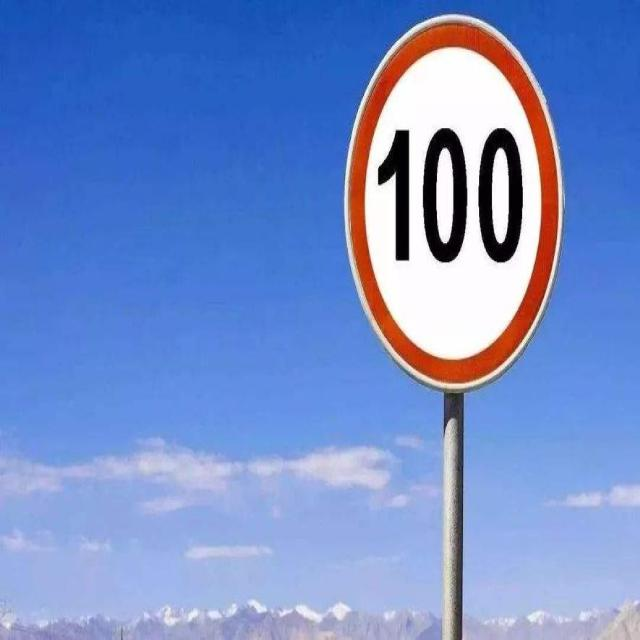speed limit 100: (342, 13, 567, 392)
